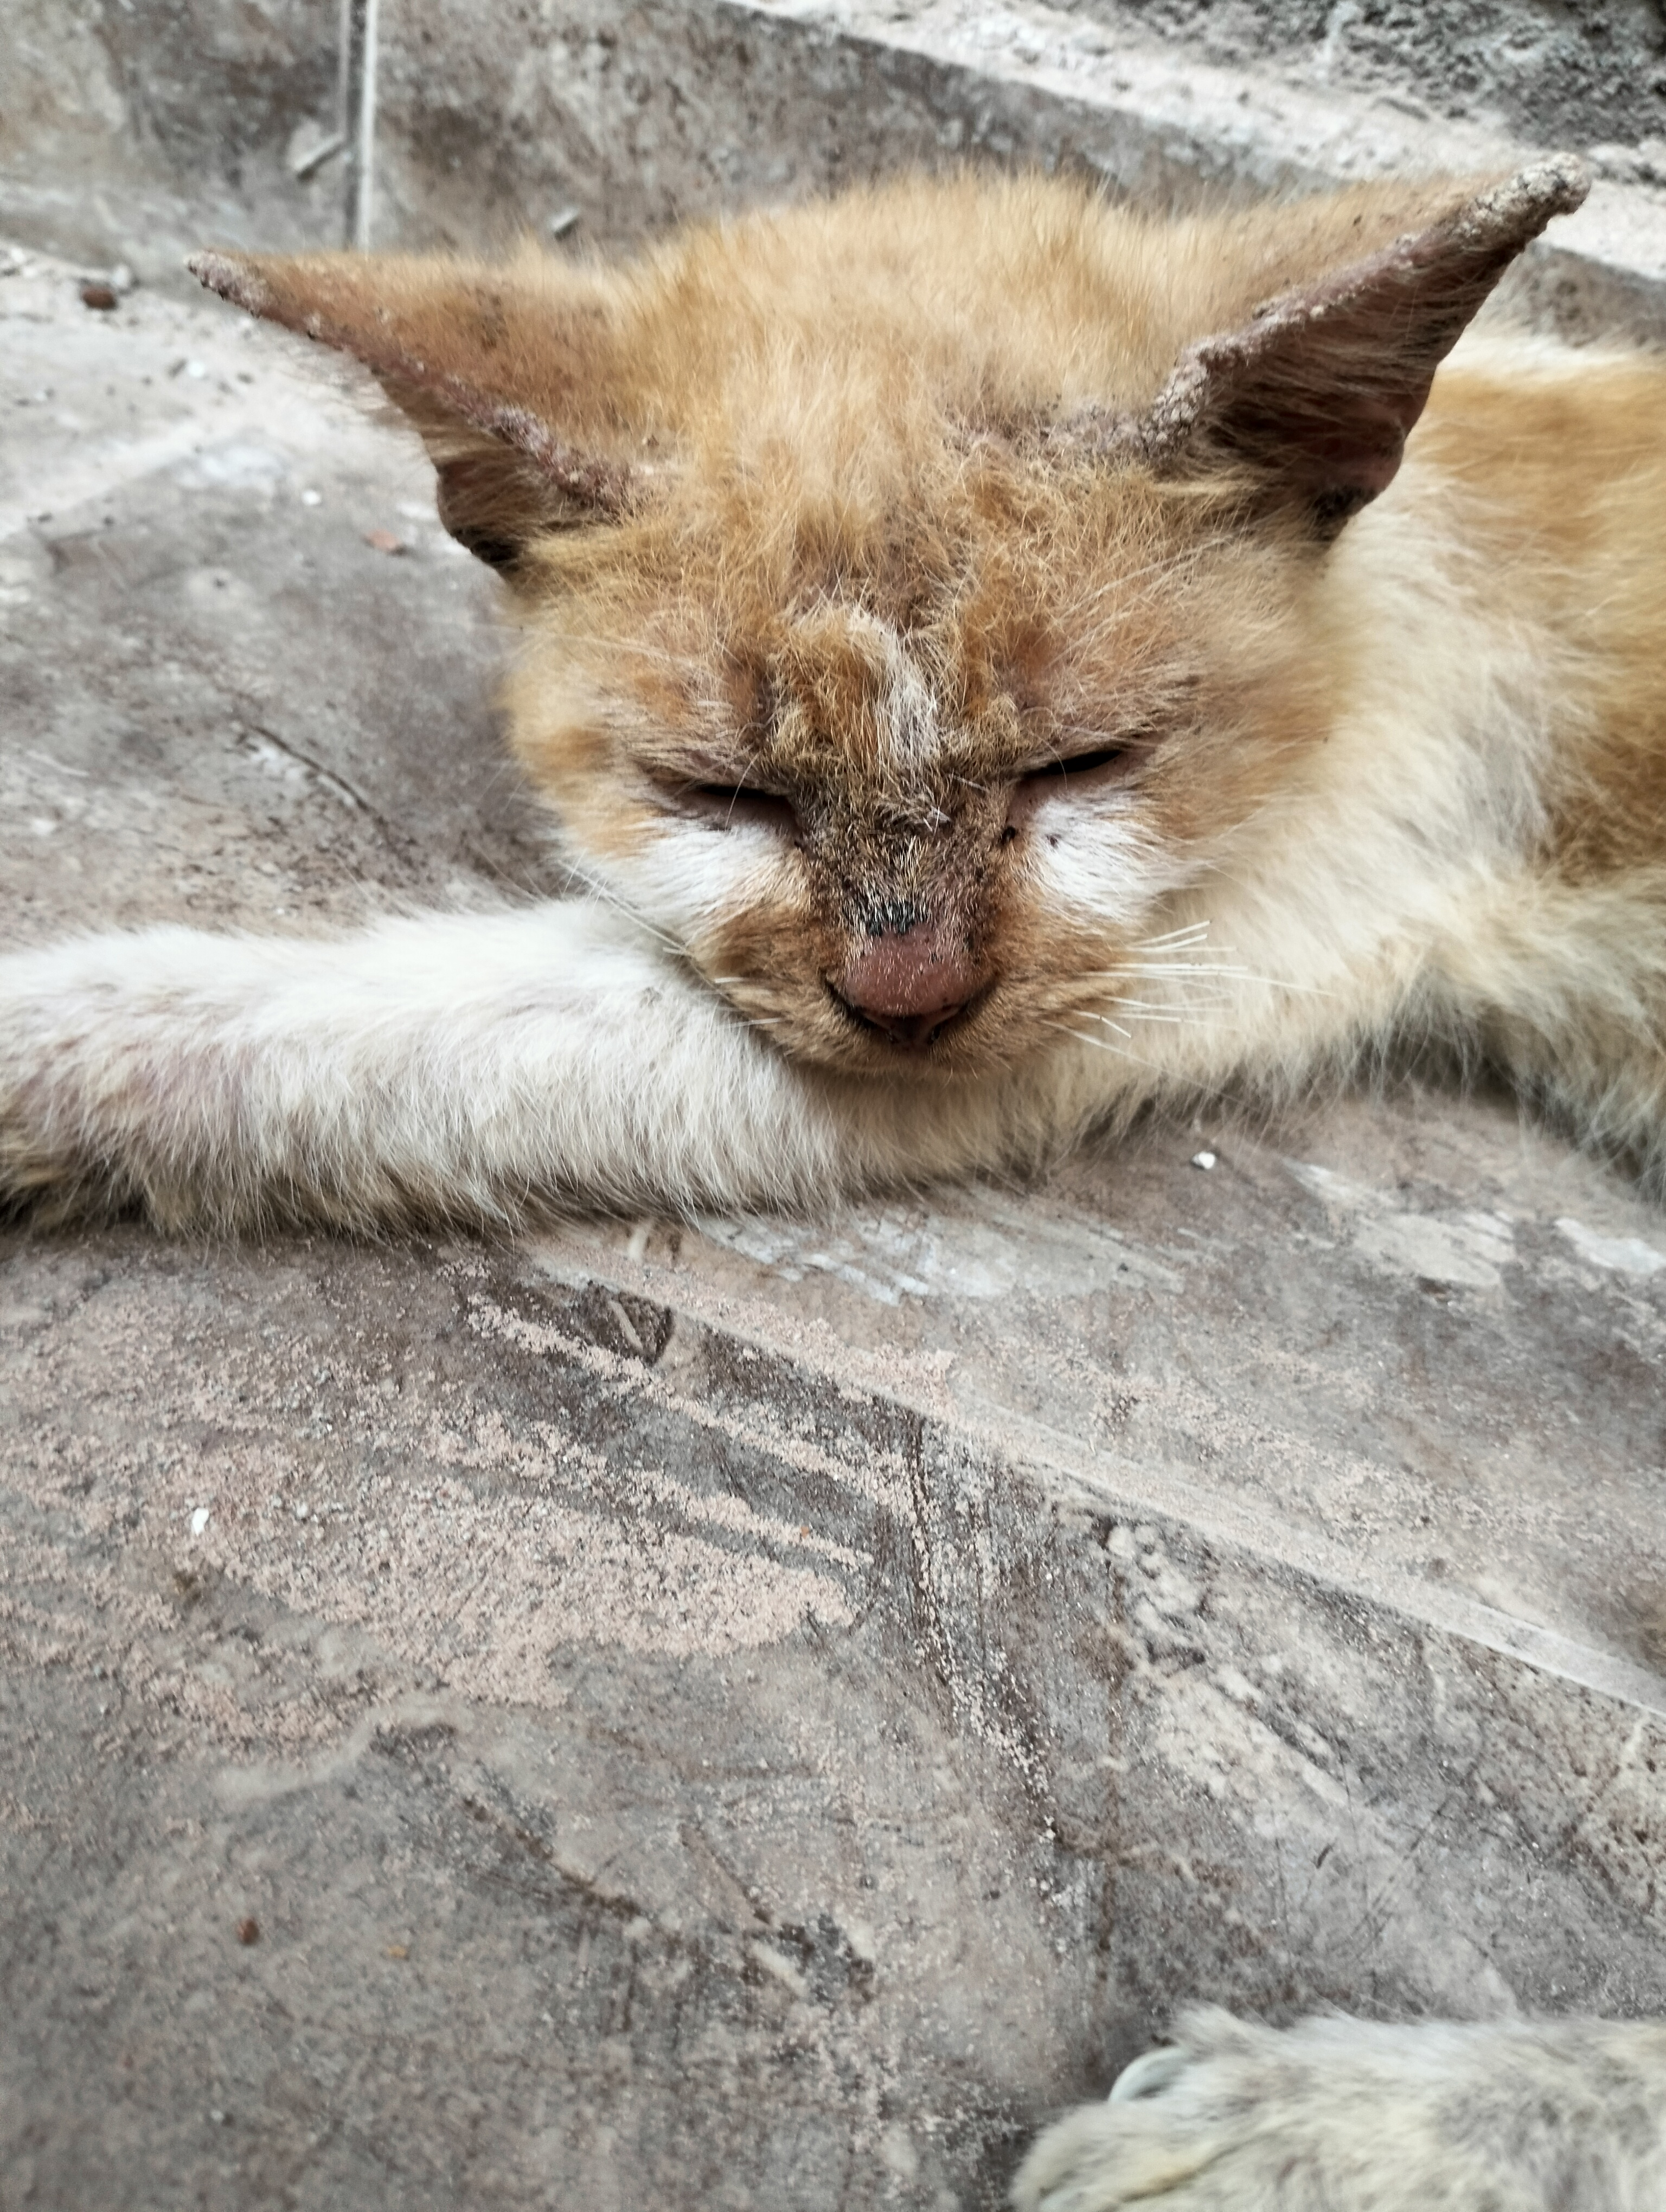cemong: (167, 115, 1621, 1179)
